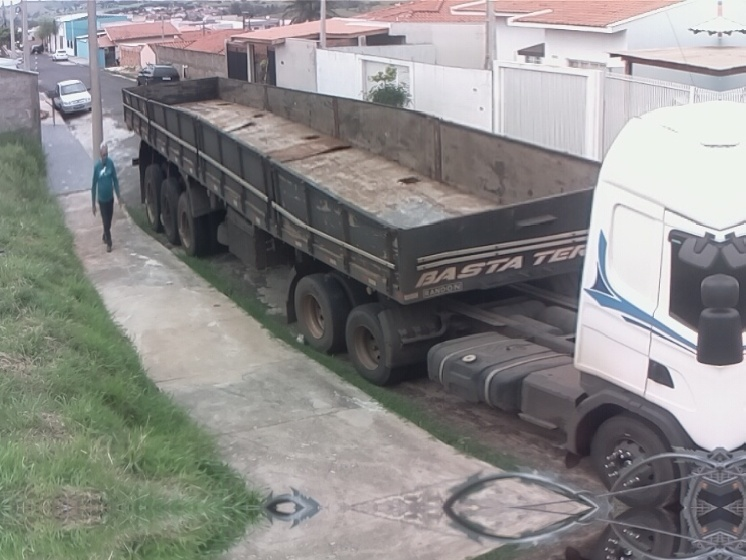person: (89, 137, 125, 254)
